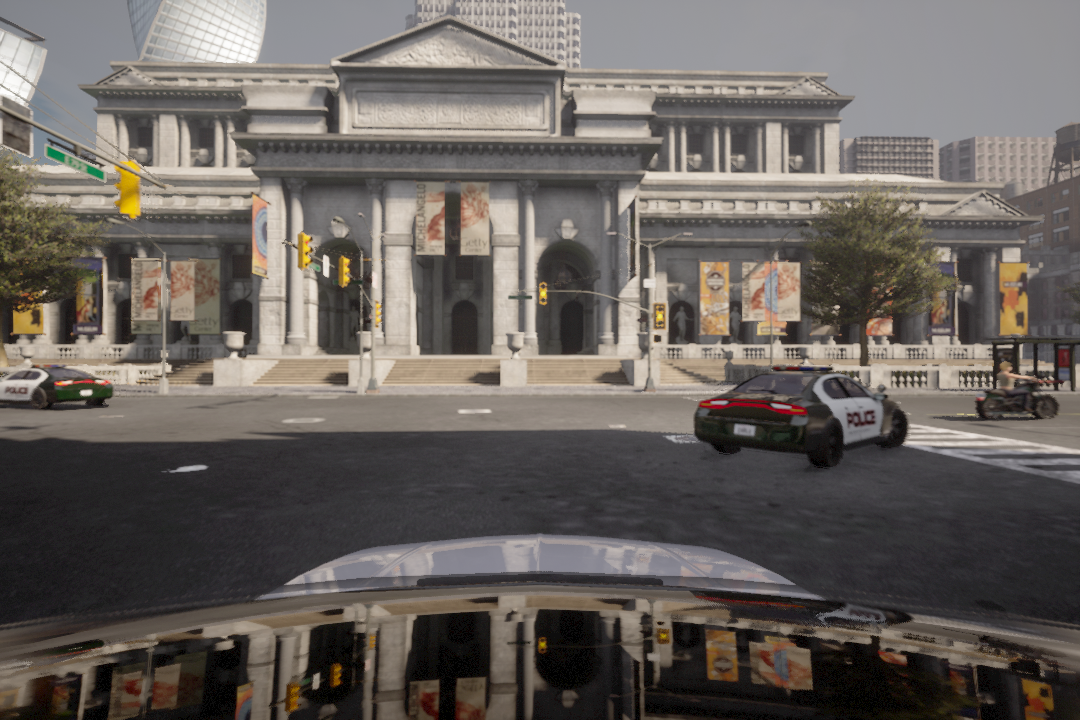TrafficLight: (651, 301, 668, 331), (536, 279, 547, 308)
walkside: (846, 410, 1080, 486)
